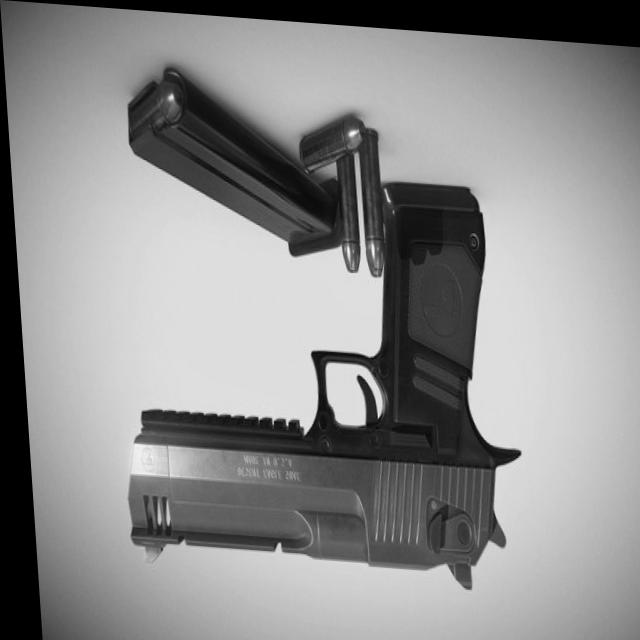handgun: (99, 150, 528, 590)
